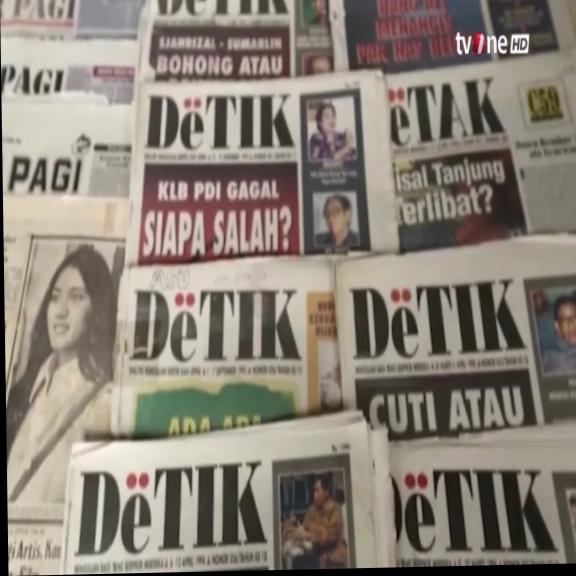Kertas: (61, 408, 387, 575), (128, 68, 390, 264), (332, 231, 576, 441), (4, 195, 139, 565), (108, 254, 341, 437), (382, 47, 576, 249), (383, 427, 576, 567), (327, 0, 572, 77), (2, 87, 138, 208), (136, 0, 309, 87), (0, 29, 142, 110), (2, 0, 155, 48)
